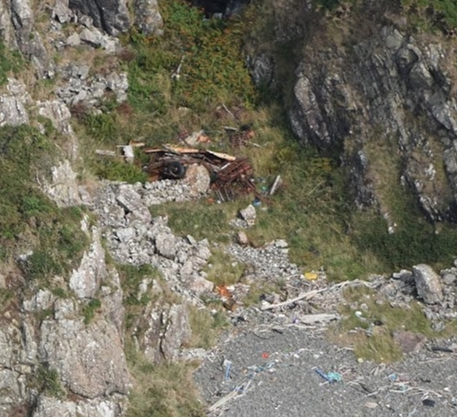net: (311, 360, 345, 388)
scattered_barrel: (214, 346, 279, 385)
together_barrel: (126, 132, 260, 196)
tube: (262, 288, 316, 315)
white_in_green: (194, 265, 259, 325), (288, 255, 334, 296)
